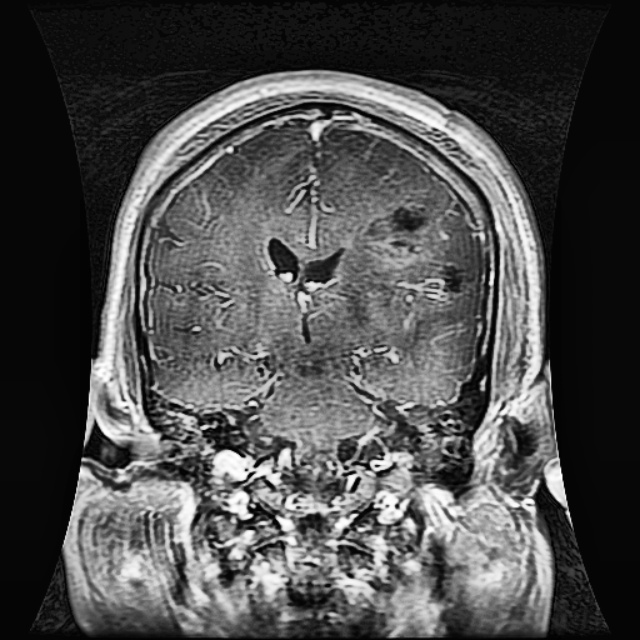Glioma: (369, 198, 462, 317)
